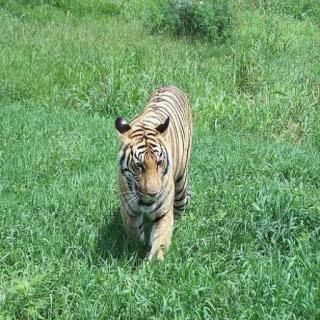Tiger: (106, 75, 208, 267)
